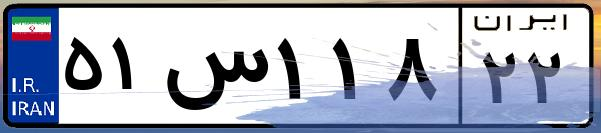1: (270, 28, 330, 110), (330, 28, 385, 110), (110, 28, 158, 98)
2: (475, 38, 525, 113), (525, 38, 570, 115)
5: (57, 26, 110, 100)
8: (385, 28, 445, 110)
س: (158, 20, 270, 120)
